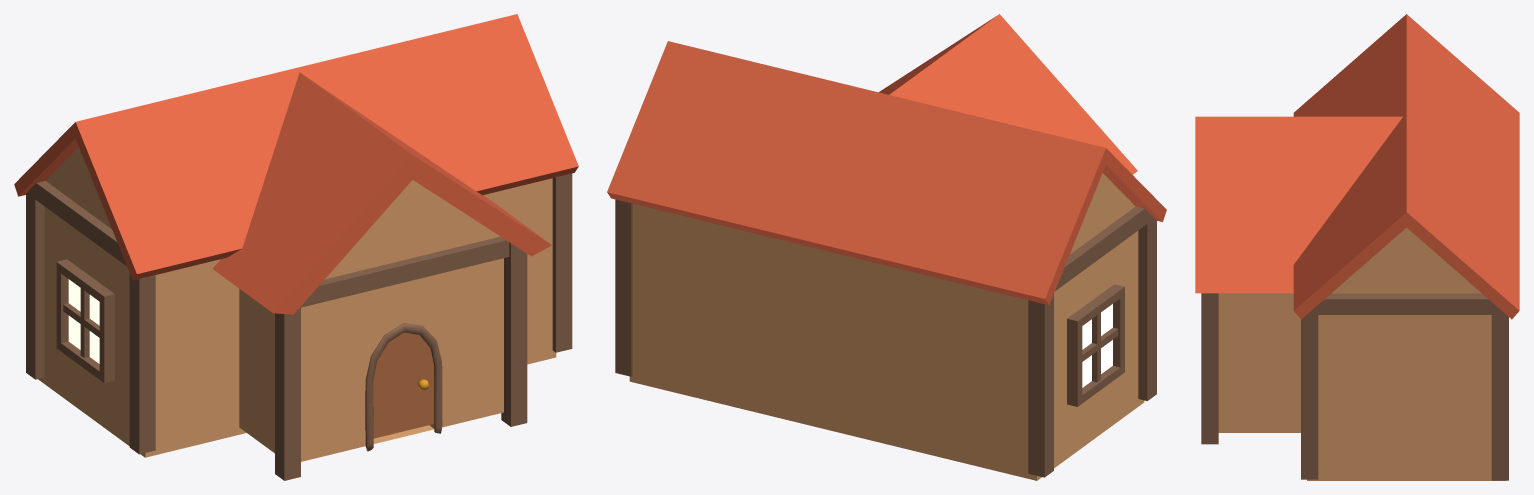
The model's file is Merchant House.fbx.
The picture shows the model from 3 angles, left to right: view 1: azimuth 30°, elevation 25°; view 2: azimuth 150°, elevation 25°; view 3: azimuth 270°, elevation 25°; orthographic projection. The views are drawn at different scales.
Parts seen in each view (by area): view 1: Cube.202; view 2: Cube.202; view 3: Cube.202.
Boxes of the visible parts, bbox=[...] form: Cube.202: bbox=[14, 14, 578, 480]; Cube.202: bbox=[607, 14, 1166, 480]; Cube.202: bbox=[1195, 14, 1519, 480].
Bounding box in the file's own units: 2752 × 1800 × 1903.
